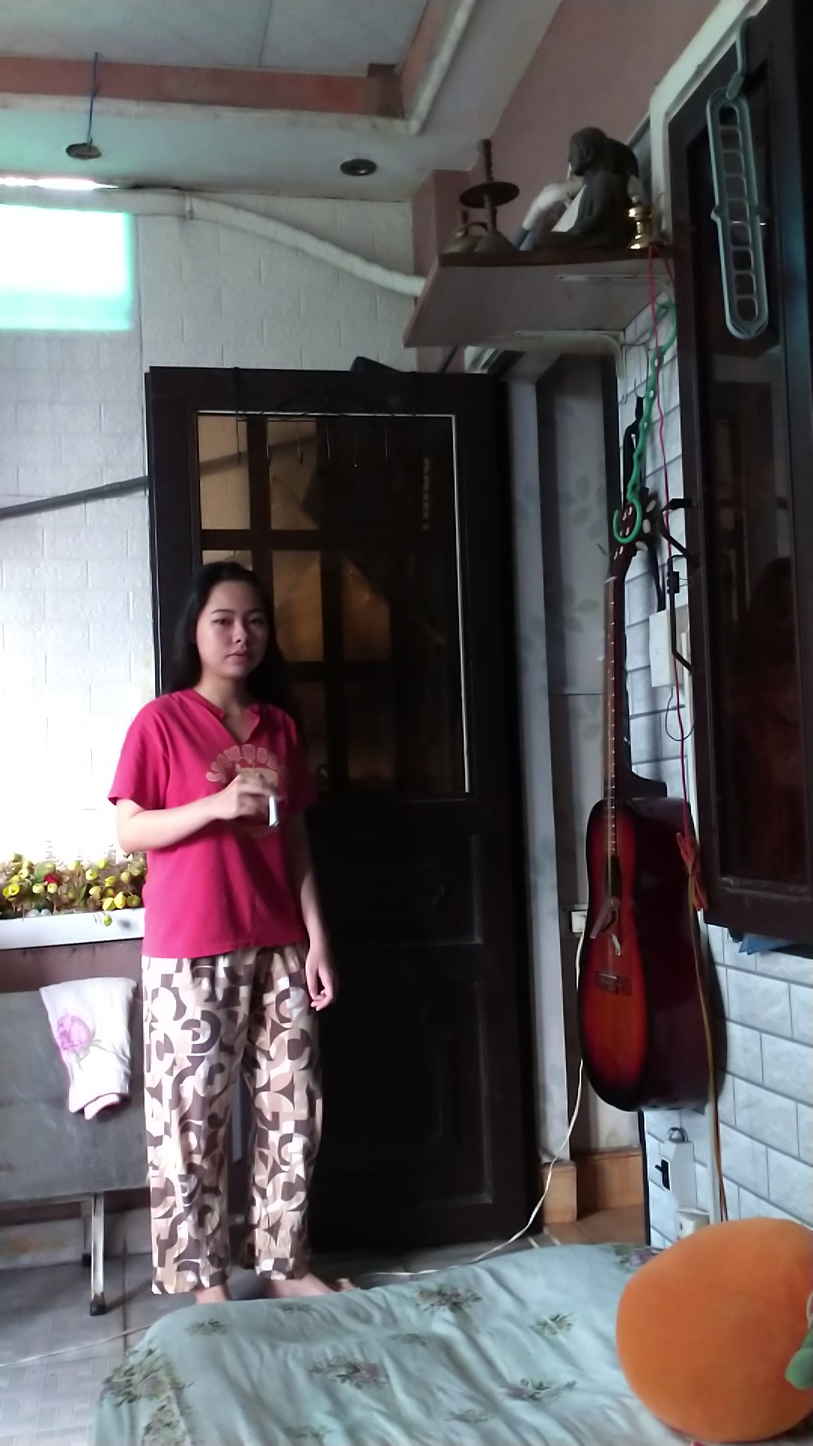cigarette: (262, 795, 287, 834)
person: (105, 538, 339, 1310)
